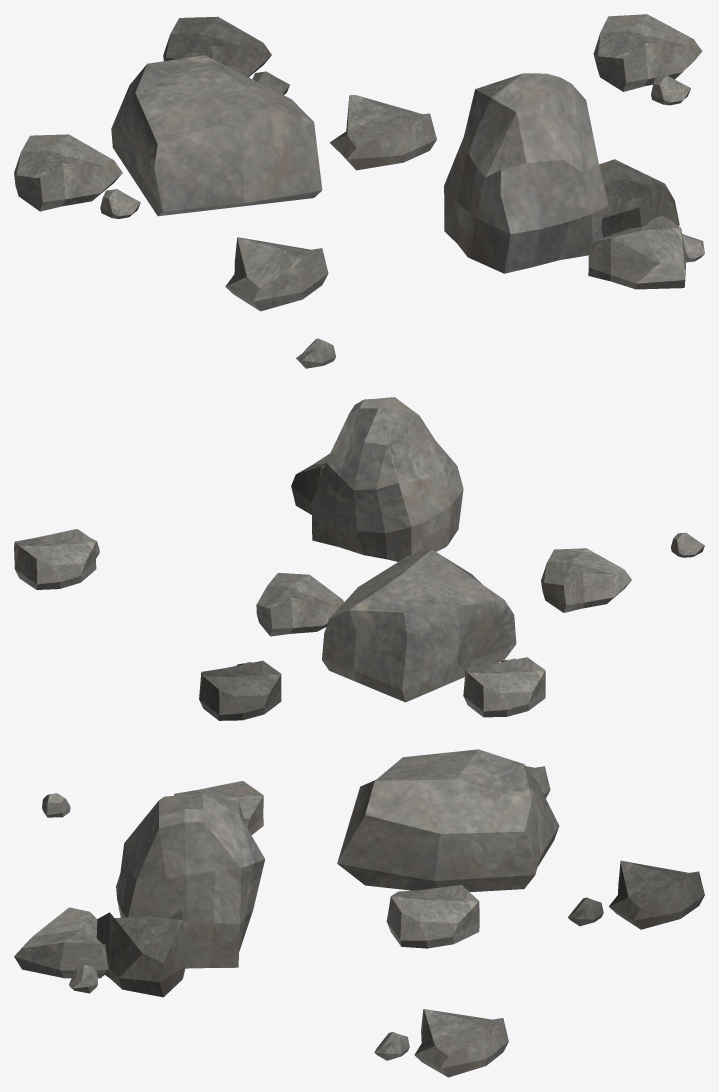
The model's file is rocks.fbx.
3 views of the same model, one above another, from view 1: azimuth 30°, elevation 25°; view 2: azimuth 150°, elevation 25°; view 3: azimuth 270°, elevation 25° (orthographic). The views are drawn at different scales.
Parts seen in each view (by area): view 1: Grp3; view 2: Grp3; view 3: Grp3.
Boxes of the visible parts, <box> form: Grp3: <box>14,14,704,368</box>; Grp3: <box>14,397,704,720</box>; Grp3: <box>14,749,704,1077</box>.
Bounding box in the file's own units: 81.84 × 19.34 × 80.88.
